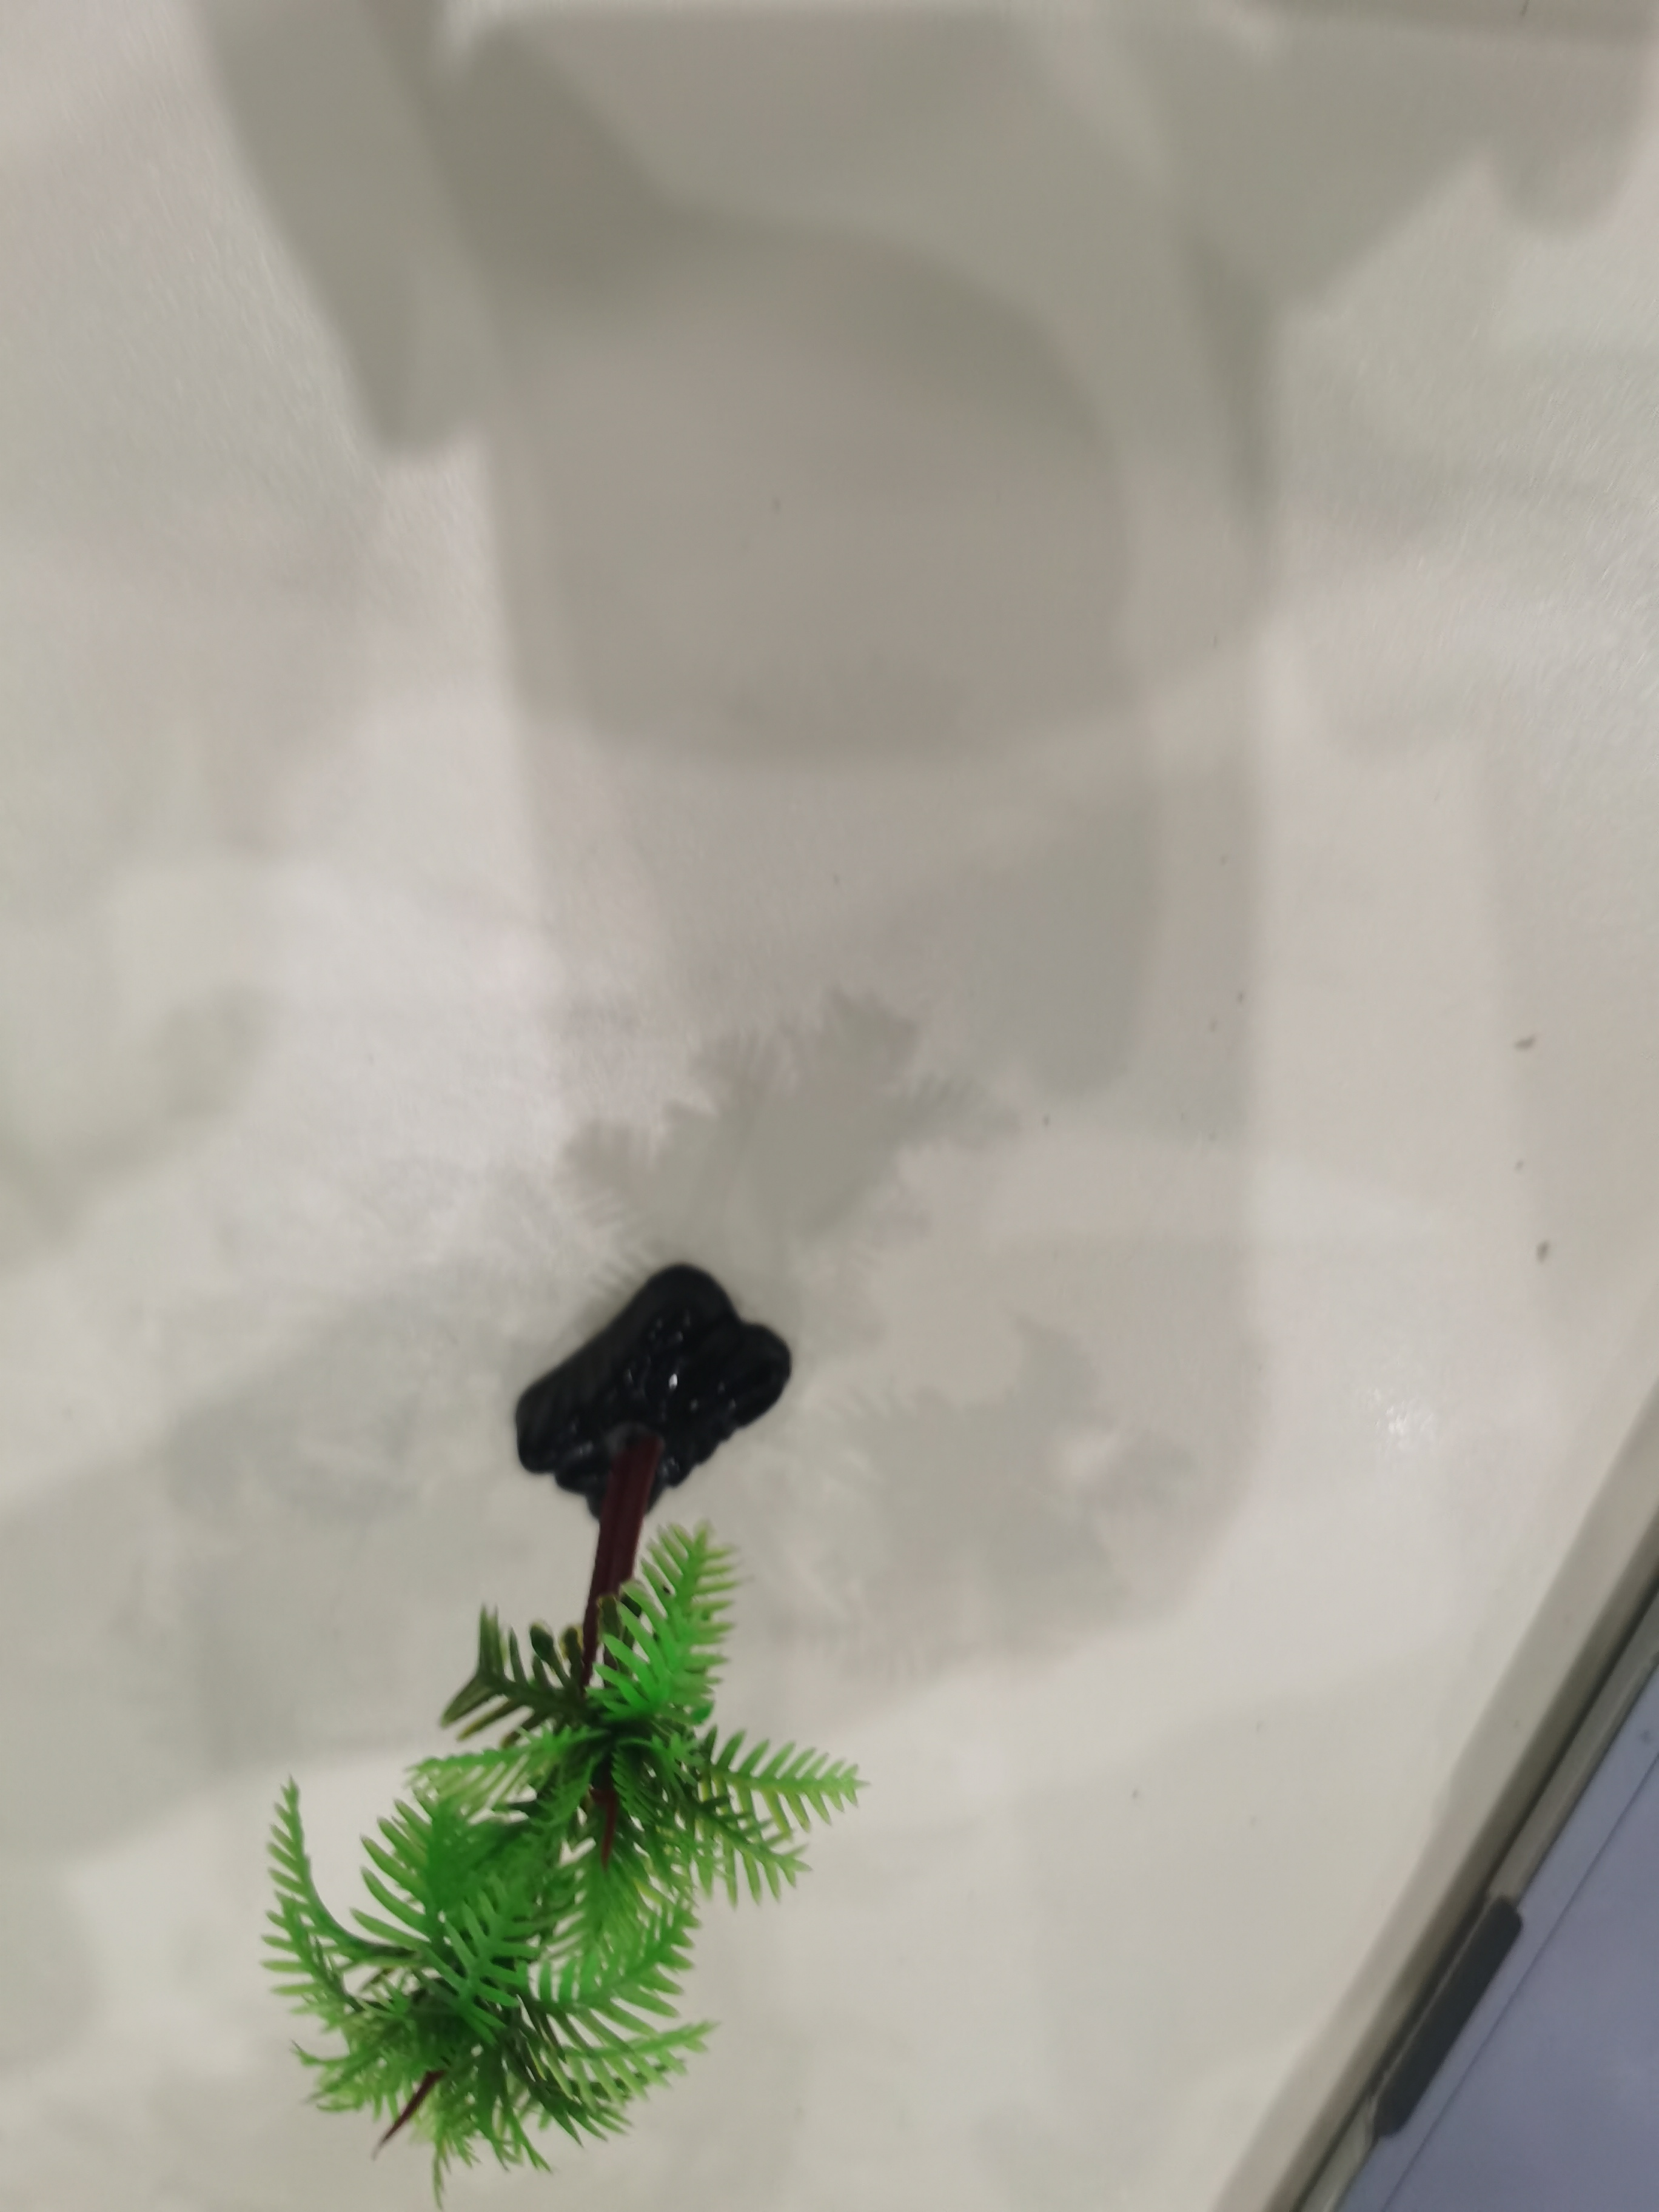corn: (260, 1240, 838, 2196)
